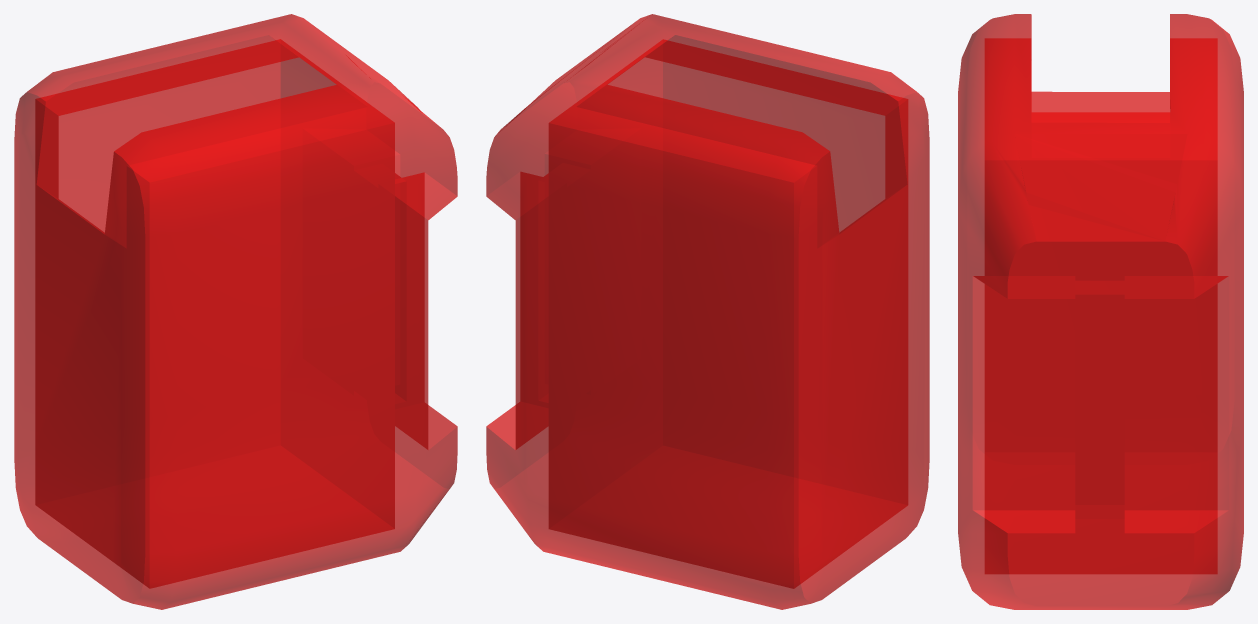
The model's file is EmbaseArreglado.fbx.
3 views of the same model, side by side, from view 1: azimuth 30°, elevation 25°; view 2: azimuth 150°, elevation 25°; view 3: azimuth 270°, elevation 25° (orthographic).
Visible parts, largest first — view 1: Box001; view 2: Box001; view 3: Box001.
Boxes of the visible parts, bbox=[...] form: Box001: bbox=[14, 14, 457, 609]; Box001: bbox=[486, 14, 929, 609]; Box001: bbox=[958, 14, 1243, 609].
Size of the model in its own units: 8.38 by 10.96 by 5.96.
